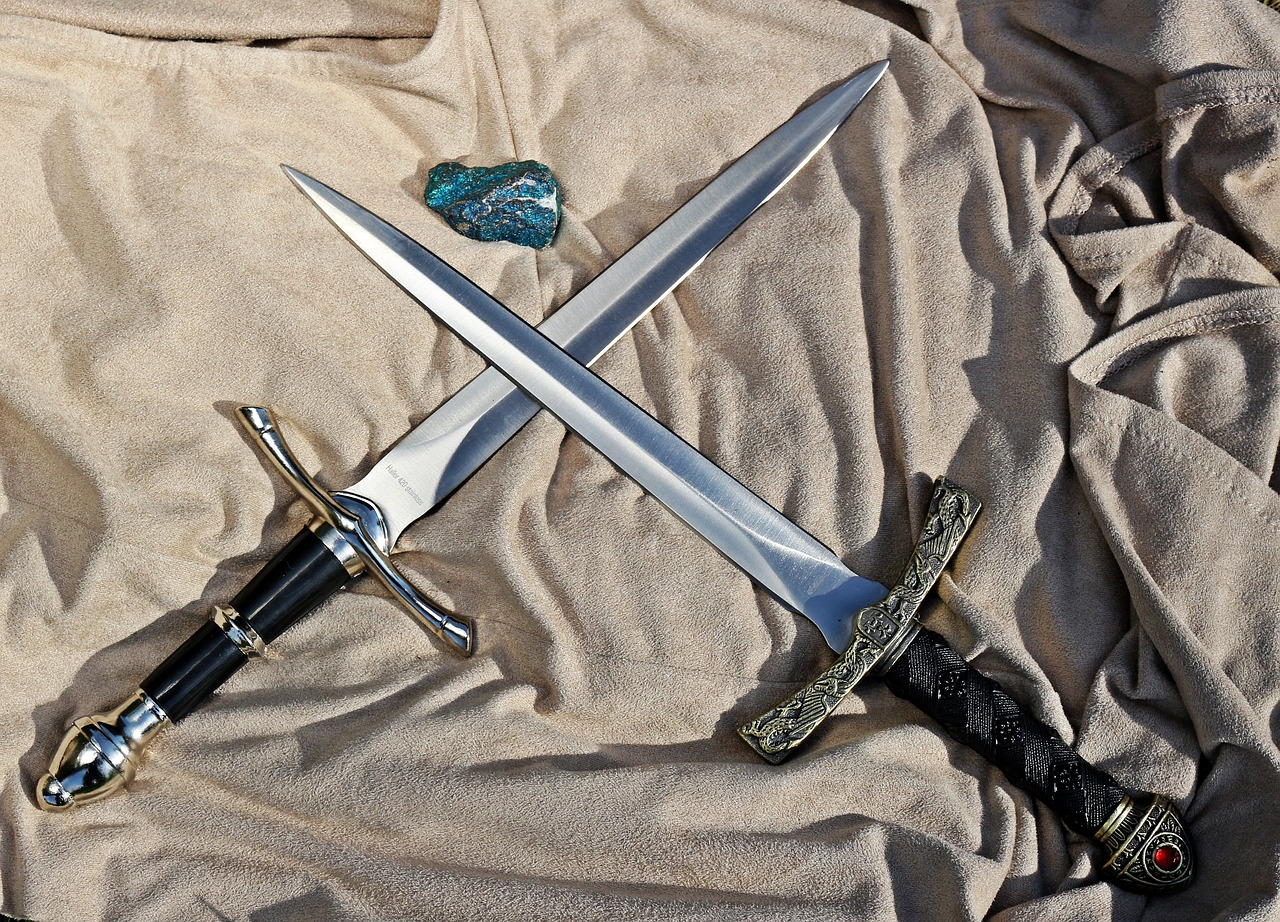knife: (272, 153, 1226, 911), (33, 52, 892, 823)
